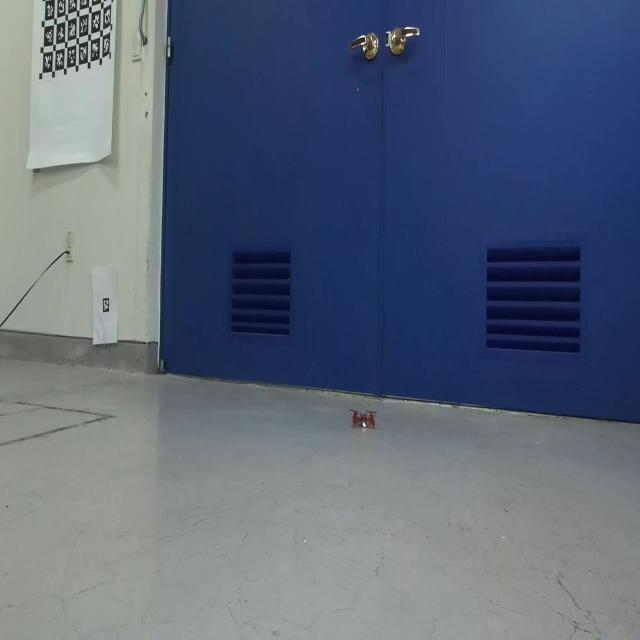crazyflie: (350, 406, 378, 432)
